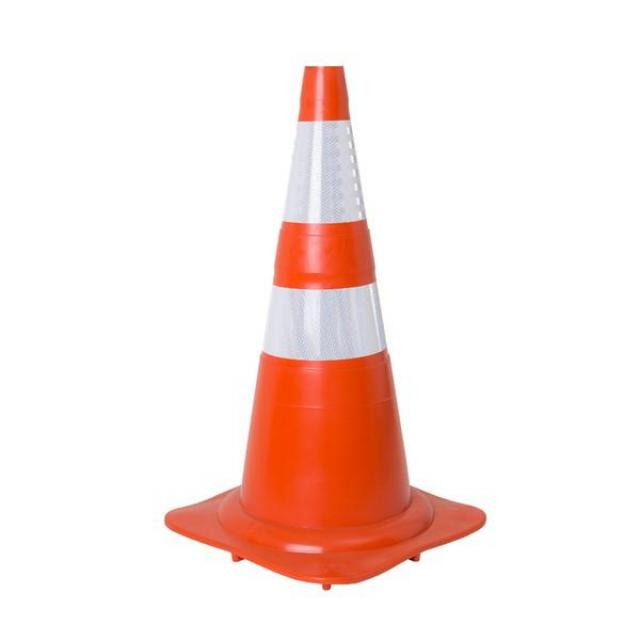cone: (151, 59, 503, 588)
